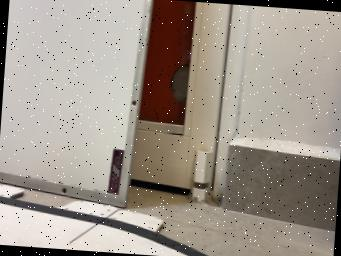street: (0, 196, 208, 256), (0, 196, 208, 256), (0, 196, 208, 256), (0, 196, 208, 256), (0, 196, 208, 256), (0, 196, 208, 256)
